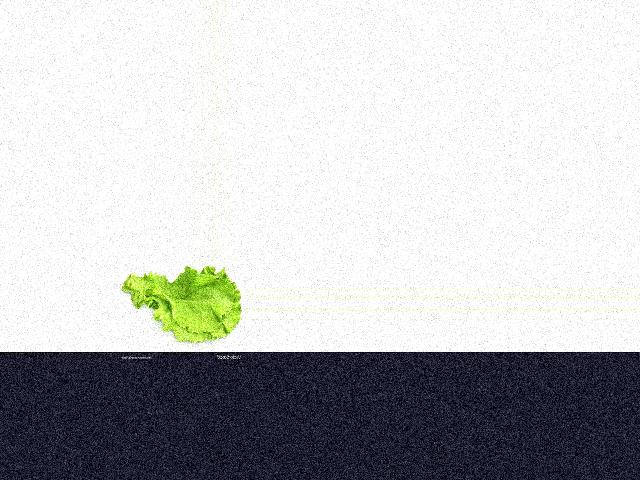lettuce: (124, 265, 241, 349)
